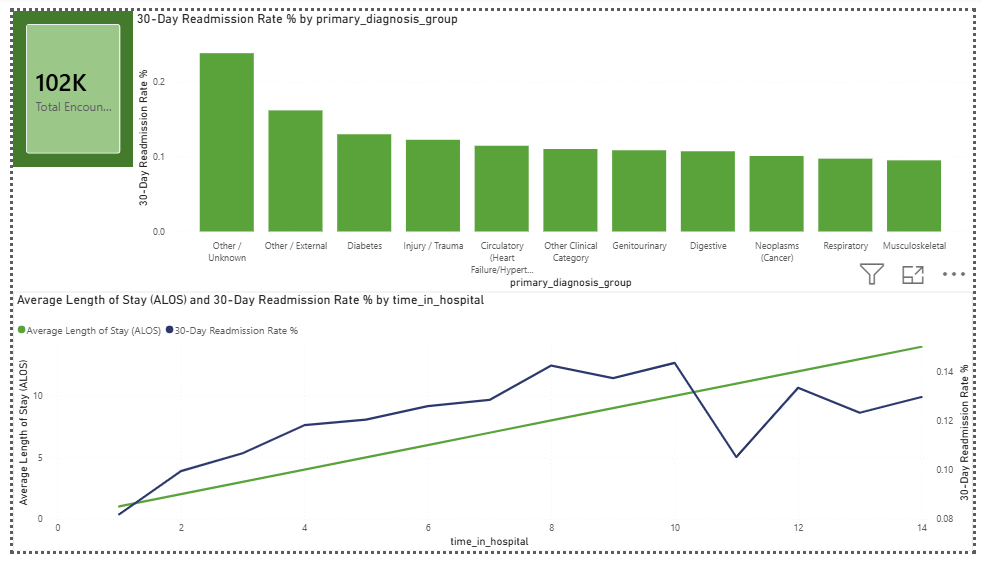

What the dashboard file says about the page in this screenshot:
{"tool":"powerbi","page":{"name":"Executive Operations Overview","canvas":[1280,720],"ordinal":0},"visuals":[{"type":"cardVisual","fields":{"Data":["cleaned_healthcare_ehr.Total Encounters"]},"box":[0,0,160.6,207.9],"z":1},{"type":"clusteredColumnChart","fields":{"Y":["cleaned_healthcare_ehr.30-Day Readmission Rate %"],"Category":["cleaned_healthcare_ehr.primary_diagnosis_group"]},"box":[160,0,1120,374],"z":3},{"type":"lineChart","fields":{"Category":["cleaned_healthcare_ehr.time_in_hospital"],"Y":["cleaned_healthcare_ehr.Average Length of Stay (ALOS)"],"Y2":["cleaned_healthcare_ehr.30-Day Readmission Rate %"]},"box":[0,374,1280,346],"z":4}]}

Visuals, with their boxes in screenshot pixels (x1, y1, x2, y2), scaled from the page's 1280x720 canvas onto the 982x561 screenshot:
cardVisual - cleaned_healthcare_ehr.Total Encounters: (0,0,123,162)
clusteredColumnChart - cleaned_healthcare_ehr.30-Day Readmission Rate % x cleaned_healthcare_ehr.primary_diagnosis_group: (123,0,981,291)
lineChart - cleaned_healthcare_ehr.time_in_hospital x cleaned_healthcare_ehr.Average Length of Stay (ALOS): (0,291,981,560)
